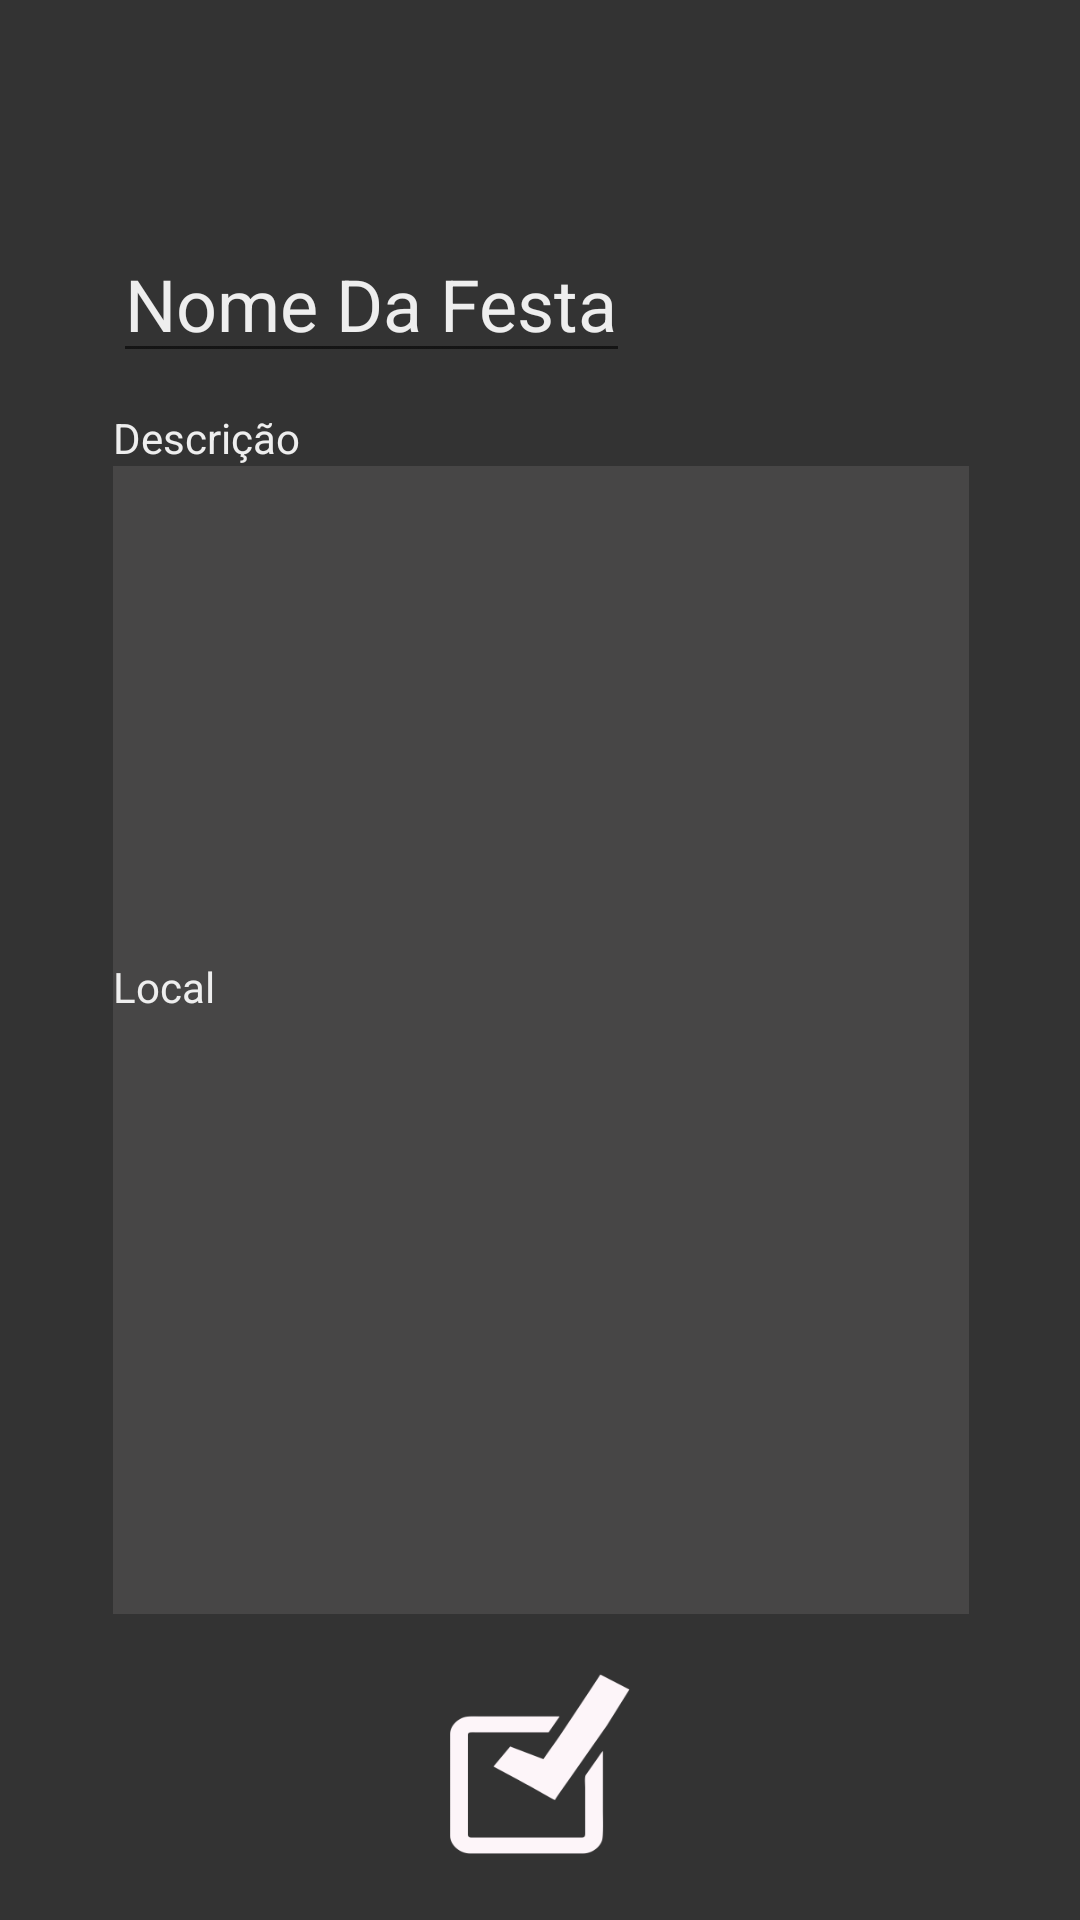

Screen size 1080w x 1920h. Icon name, then its box in pixels as region(x1, y1, x2, y2):
btnconfirmar: region(450, 1674, 629, 1854)
